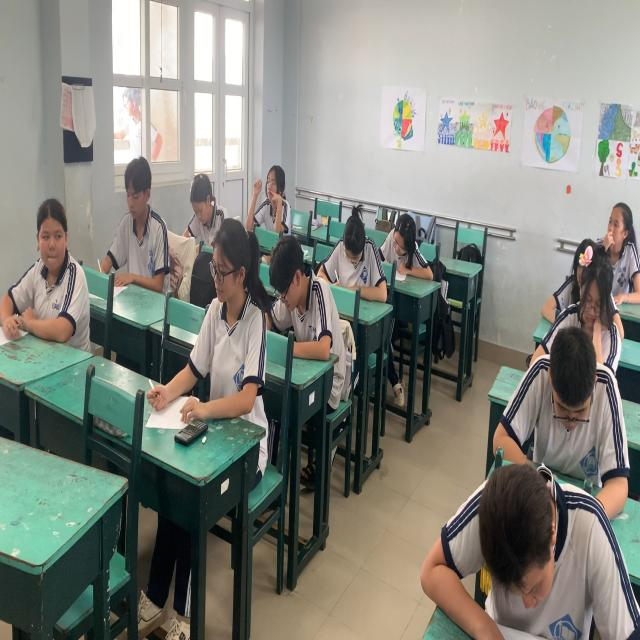cheating: (22, 192, 88, 334)
not_cheating: (474, 448, 555, 600), (204, 209, 257, 415), (533, 329, 606, 464), (270, 224, 334, 364), (121, 154, 171, 286), (338, 199, 382, 306), (570, 254, 614, 357), (180, 147, 220, 257), (389, 198, 429, 303), (600, 190, 640, 273), (251, 147, 279, 213)
